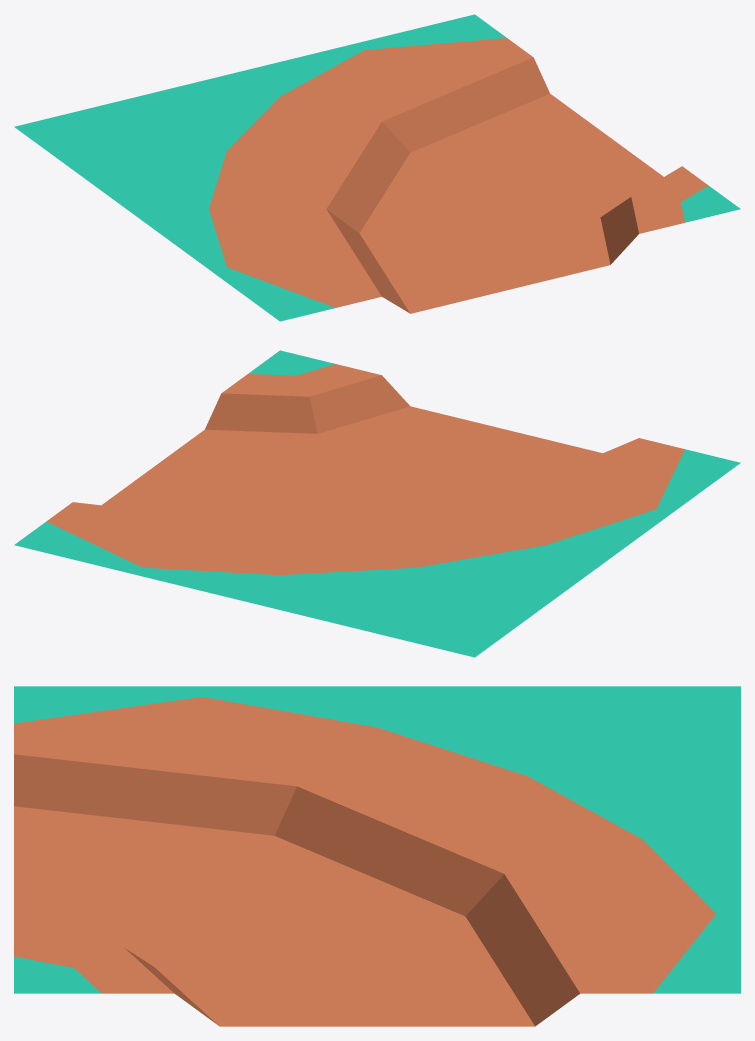
Rendered from ground_pathBendBank.glb.
3 views of the same model, one above another, from view 1: azimuth 30°, elevation 25°; view 2: azimuth 150°, elevation 25°; view 3: azimuth 270°, elevation 25° (orthographic). The views are drawn at different scales.
Visible parts, largest first — view 1: ground_pathBendBank; view 2: ground_pathBendBank; view 3: ground_pathBendBank.
Boxes of the visible parts, bbox=[...] form: ground_pathBendBank: bbox=[14, 14, 740, 321]; ground_pathBendBank: bbox=[14, 350, 740, 657]; ground_pathBendBank: bbox=[14, 686, 740, 1026].
Size of the model in its own units: 1 by 0.05 by 1.
